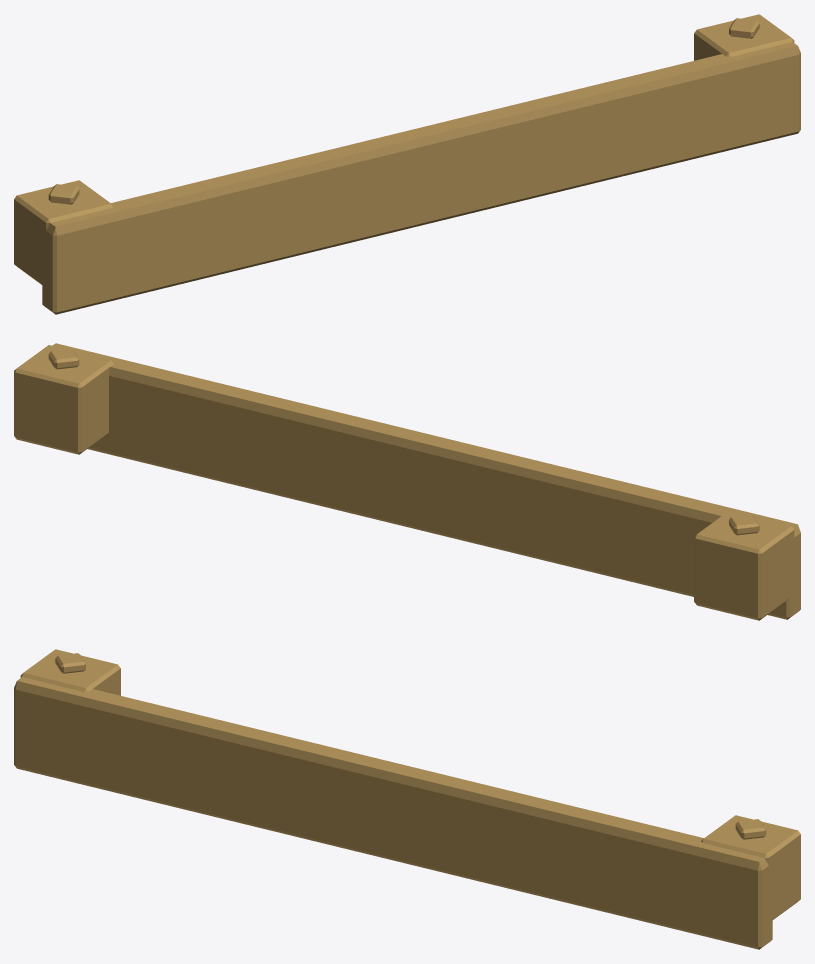
The model's file is bridge-docking-cap.glb.
3 views of the same model, one above another, from view 1: azimuth 30°, elevation 25°; view 2: azimuth 150°, elevation 25°; view 3: azimuth 330°, elevation 25° (orthographic).
Parts seen in each view (by area): view 1: Bridge docking cap; view 2: Bridge docking cap; view 3: Bridge docking cap.
Part boxes in pixels (x1,y1,x2,y2): Bridge docking cap: [14, 14, 800, 314]; Bridge docking cap: [14, 343, 800, 620]; Bridge docking cap: [14, 649, 800, 949].
Size of the model in its own units: 1.98 by 0.2555 by 0.19.
